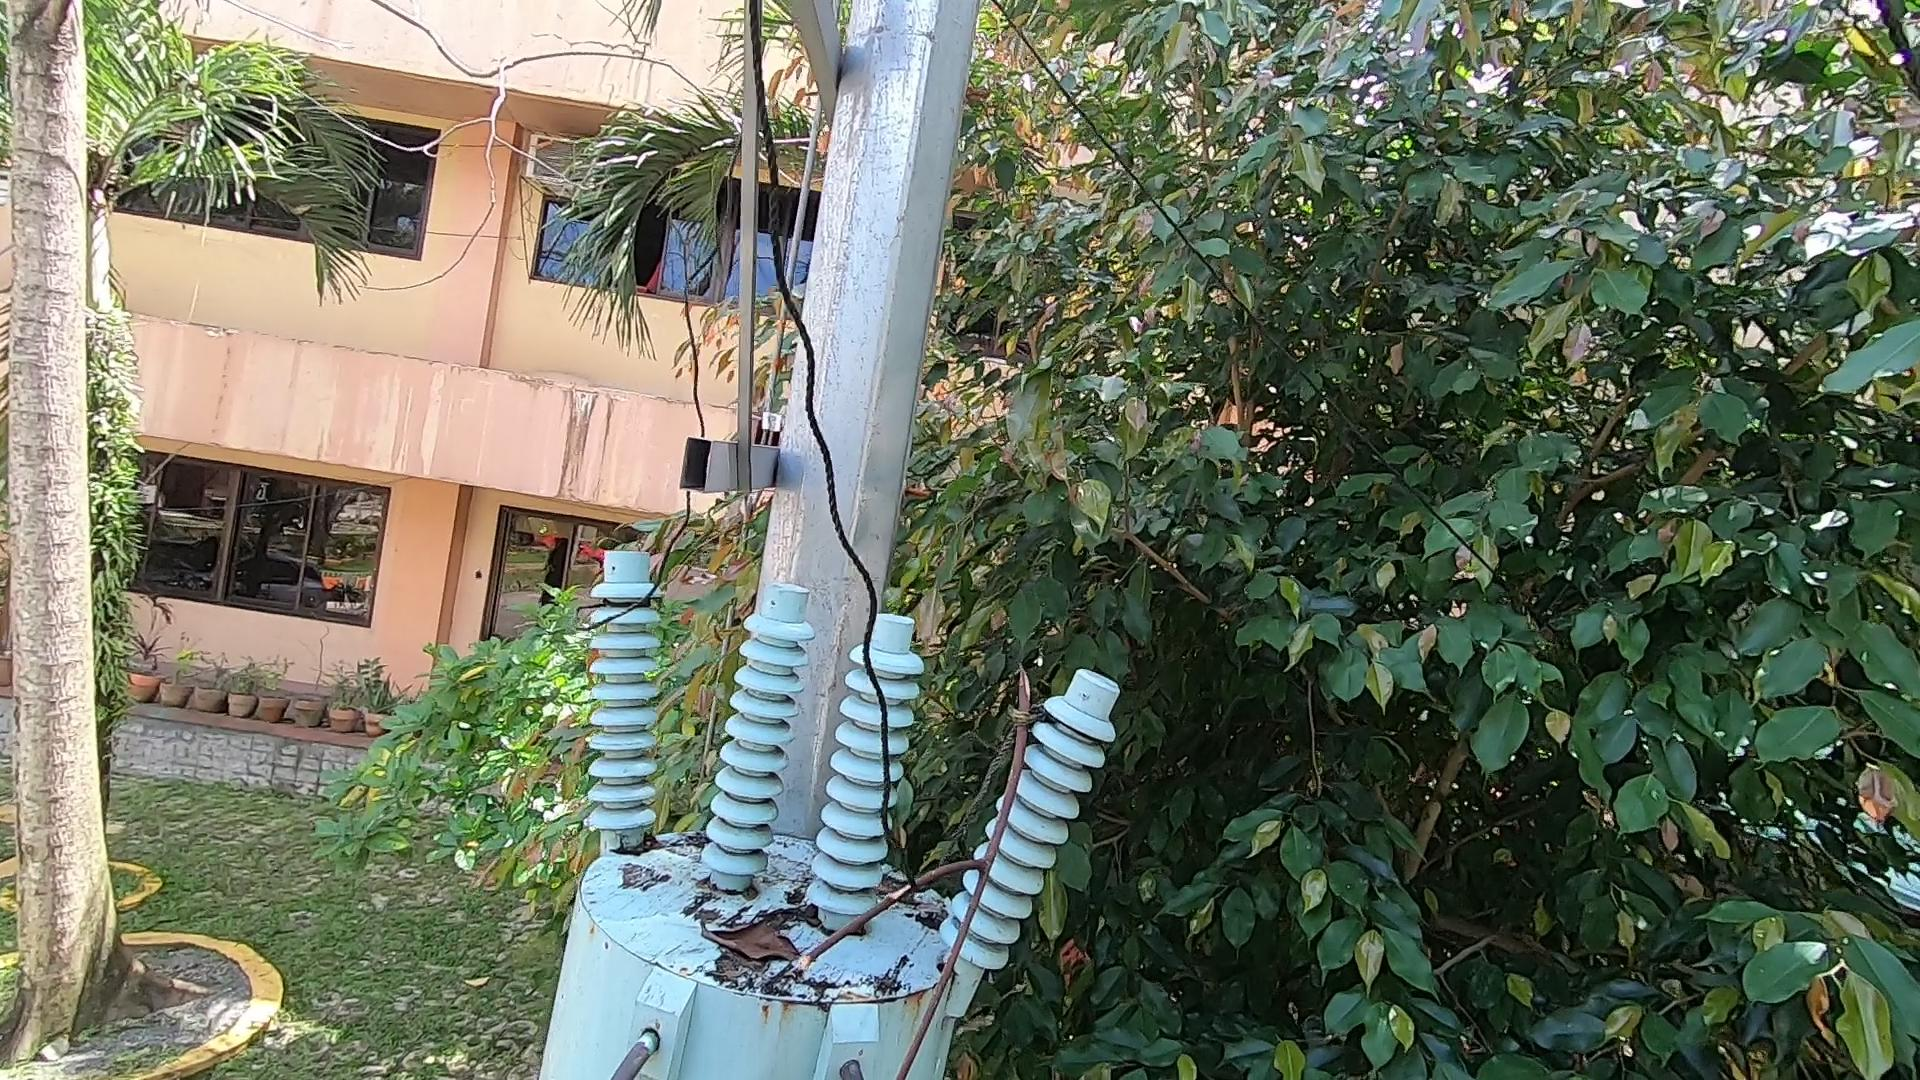leaf: (690, 909, 811, 975)
tree branch: (783, 662, 1072, 1080)
